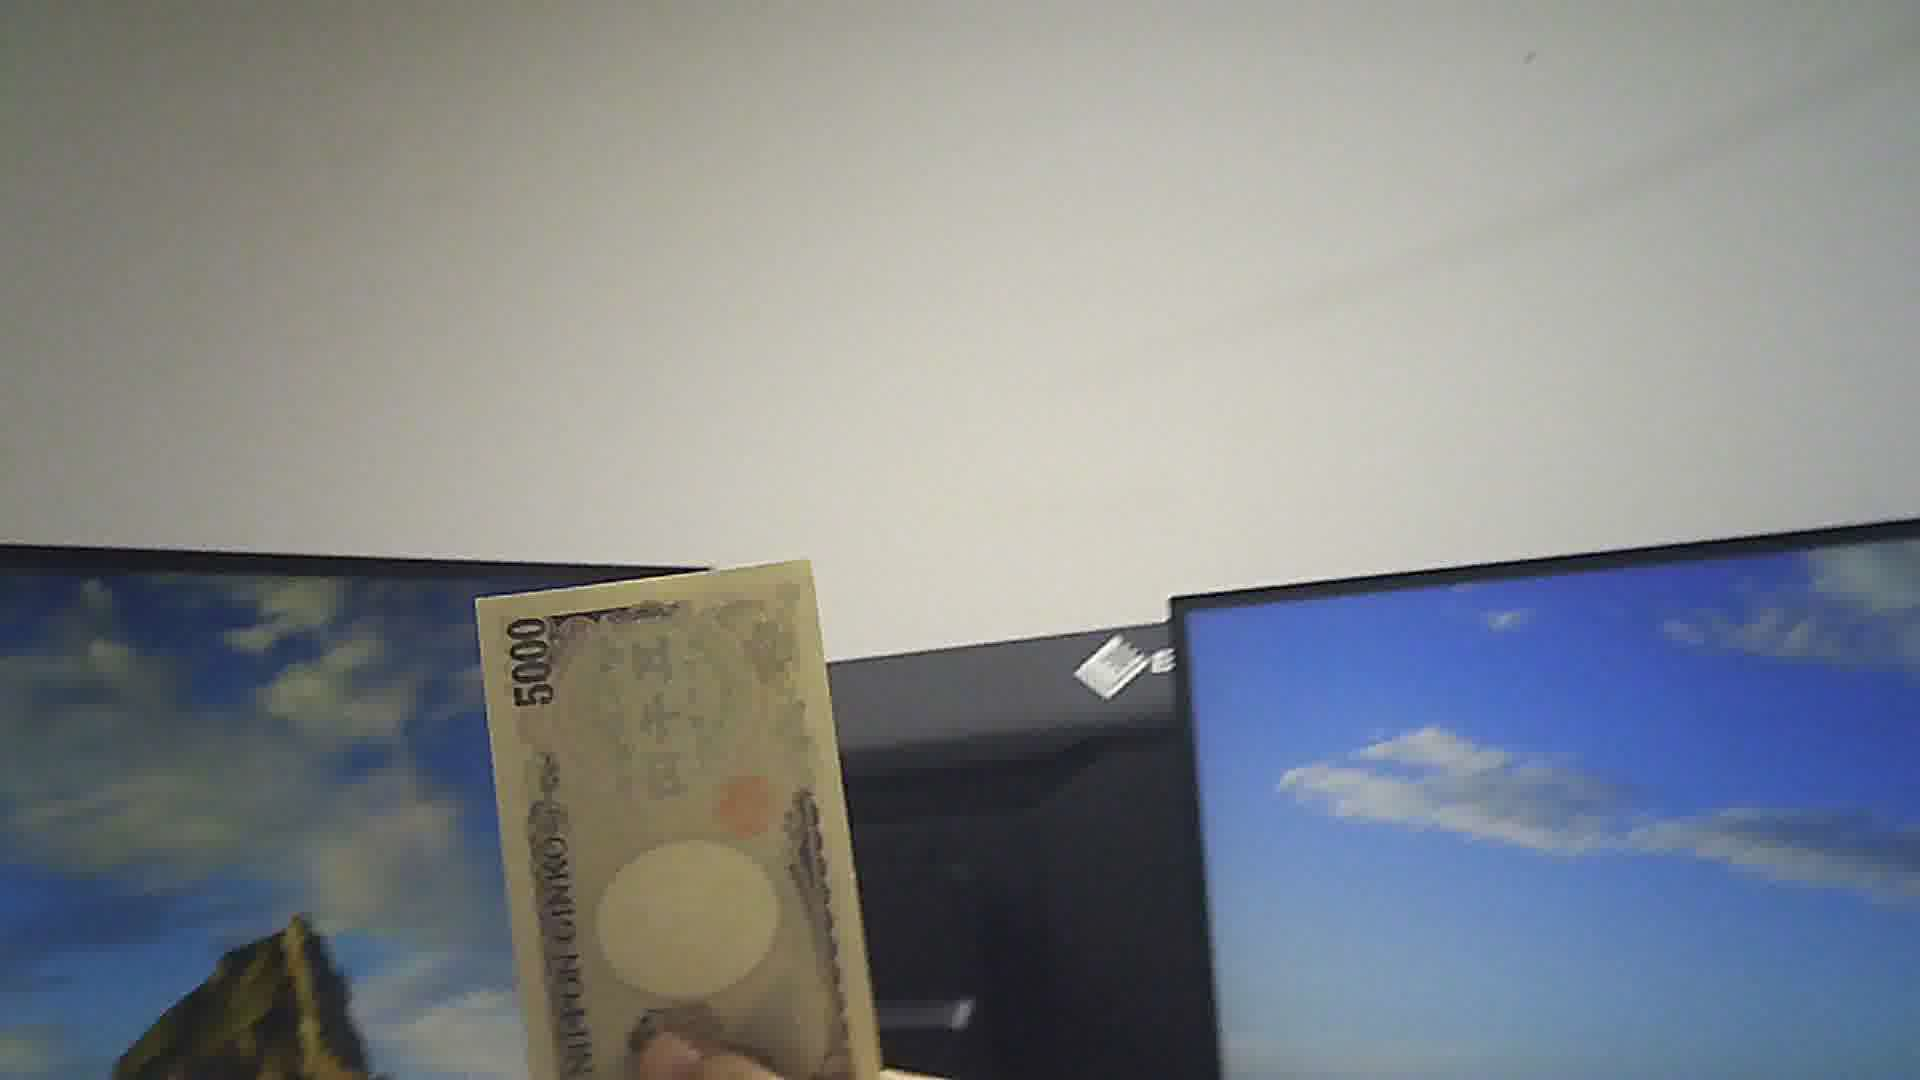5,000 Yen: (464, 550, 894, 1079)
